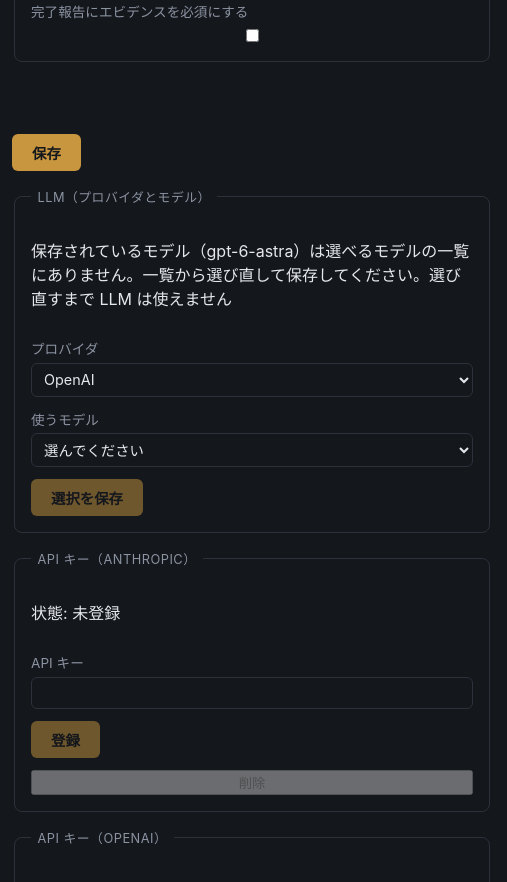
Test: 設定画面の選択の欄（製品版） › 保存したモデルが一覧に無いとき › S2-V6: 一覧のモデルを選んで保存すると、PUT がそのモデルで呼ばれ、成功すると選び直しの案内は消える
This screenshot has width=507, height=882.
(page scrolled)
Expected: the message "保存されているモデル（gpt-6-astra）は選べるモデルの一覧にありません。一覧から選び直して保存してください。選び直すまで LLM は使えません" is shown, x1=31 y1=238 x2=473 y2=310
Select "GPT-6 Sol" in the dropdown labelled "使うモデル" at (252, 450), box x1=31 y1=433 x2=473 y2=467
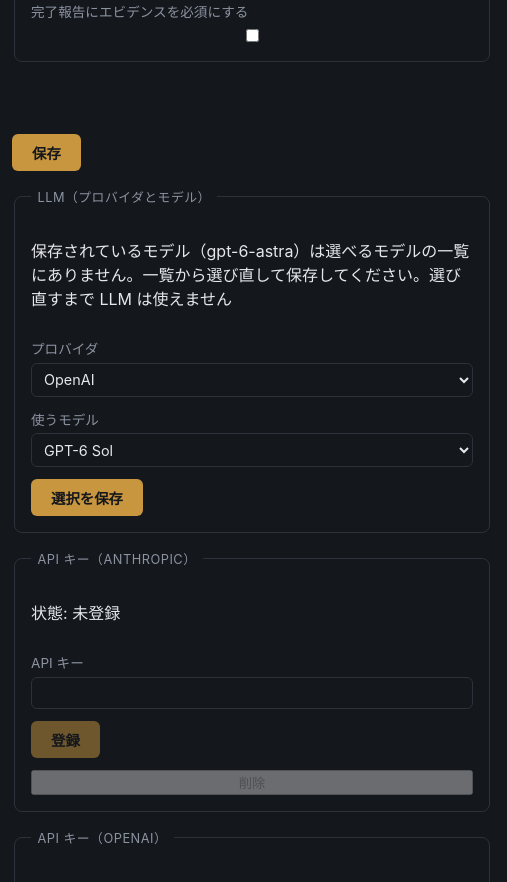
Result: the button "選択を保存" is enabled
Click the button "選択を保存" at (87, 498), box x1=31 y1=479 x2=143 y2=516
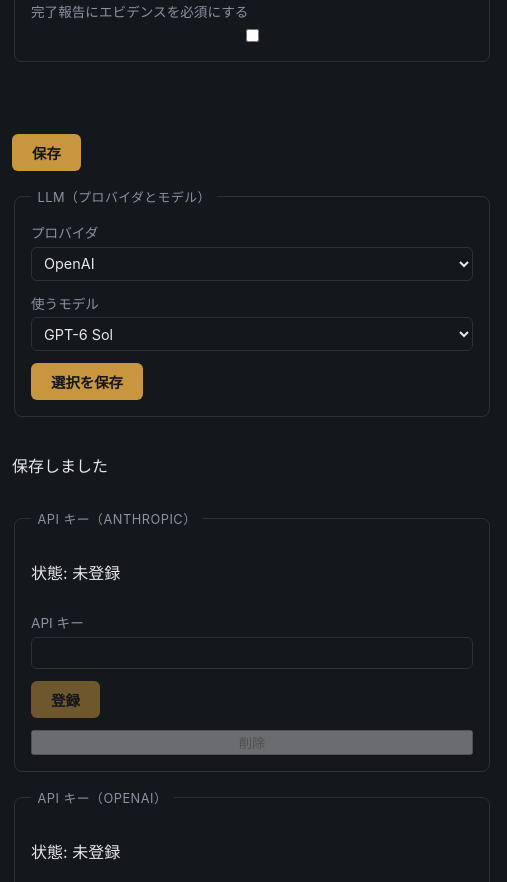
Result: the text "保存しました" is shown at x1=12 y1=456 x2=108 y2=476
Result: the message "保存されているモデル（gpt-6-astra）は選べるモデルの一覧にありません。一覧から選び直して保存してください。選び直すまで LLM は使えません" is gone
